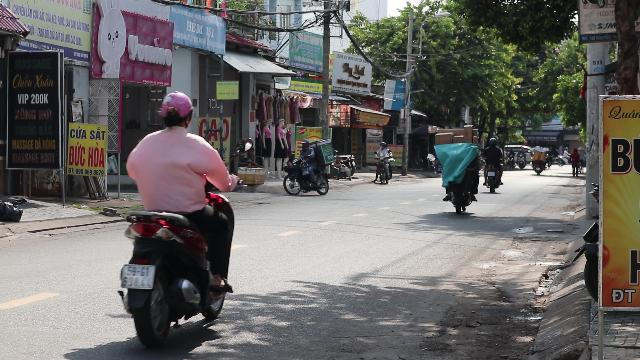helmet: (157, 91, 195, 129)
licenseplate: (121, 265, 155, 289)
motorcyclist: (114, 90, 240, 352)
